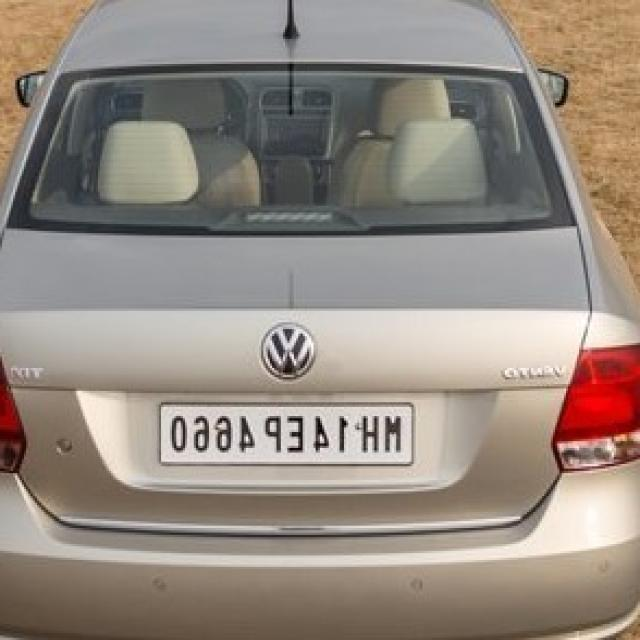number-plate: (150, 408, 414, 469)
